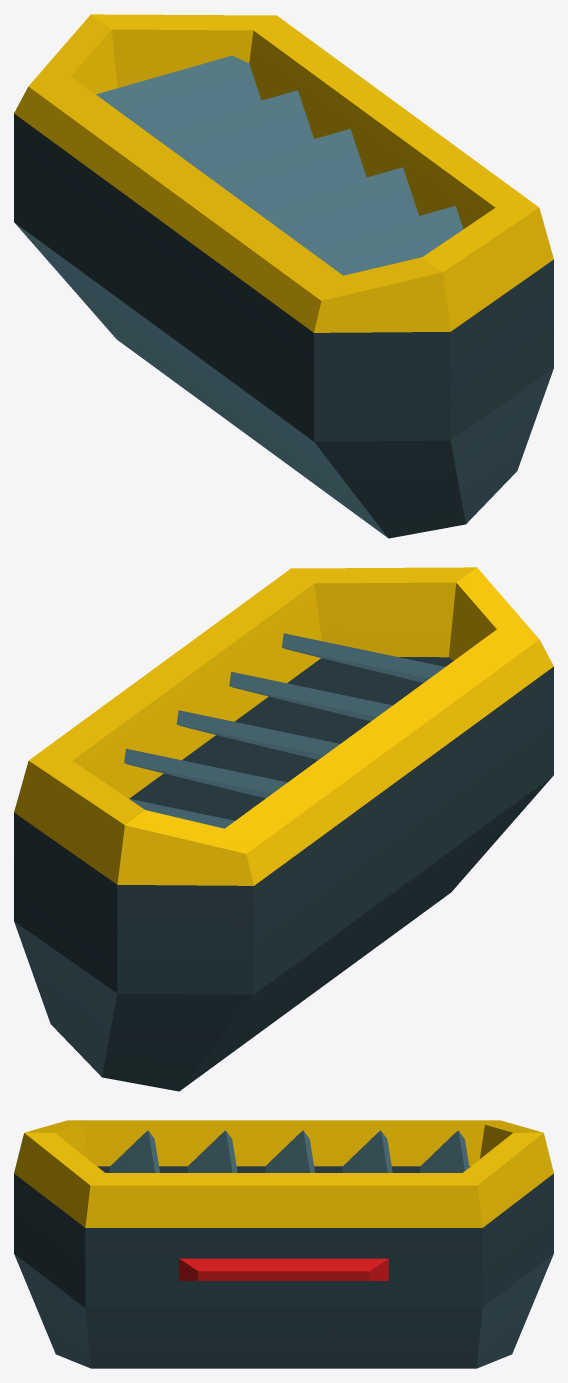
The model's file is Drone_Delivery_03_EngineL_01.001.fbx.
3 renders of one model, top to bottom at view 1: azimuth 30°, elevation 25°; view 2: azimuth 150°, elevation 25°; view 3: azimuth 270°, elevation 25°, orthographic. The views are drawn at different scales.
Parts seen in each view (by area): view 1: Drone_Delivery_03_EngineL_01.001; view 2: Drone_Delivery_03_EngineL_01.001; view 3: Drone_Delivery_03_EngineL_01.001.
Boxes of the visible parts, x1,y1,x2,y2 form: Drone_Delivery_03_EngineL_01.001: (14,14,553,538); Drone_Delivery_03_EngineL_01.001: (14,567,553,1091); Drone_Delivery_03_EngineL_01.001: (14,1120,553,1368).
Size of the model in its own units: 22.81 by 52.71 by 23.22.
